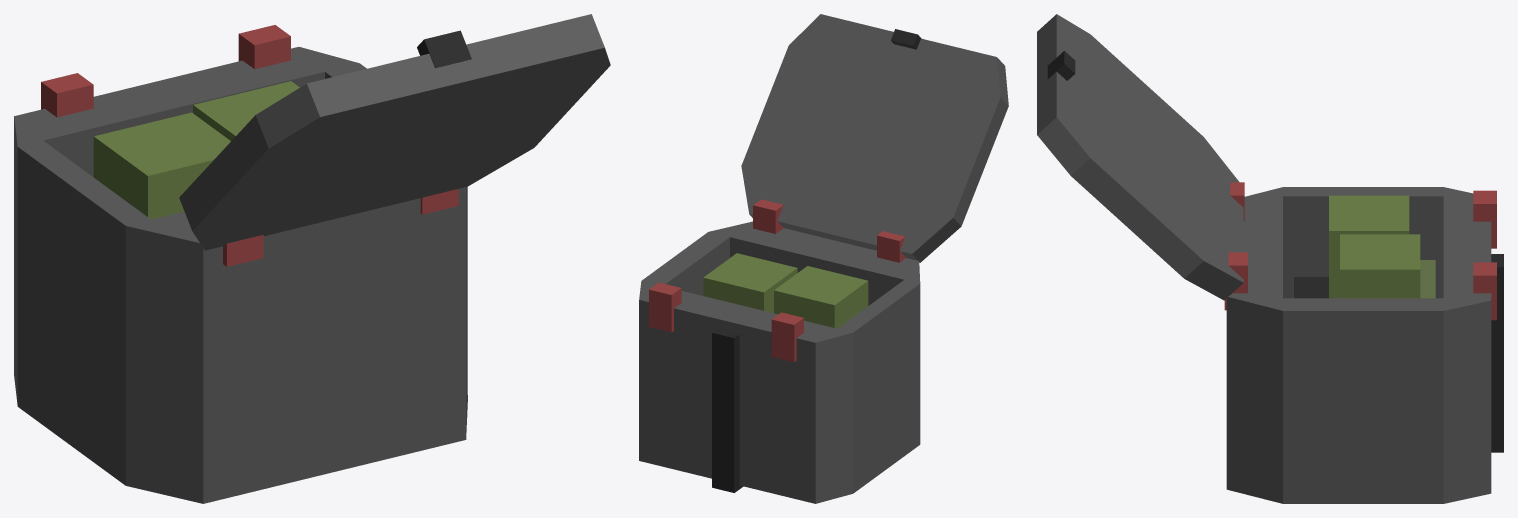
File: Crate food.fbx
3 views of the same model, side by side, from view 1: azimuth 30°, elevation 25°; view 2: azimuth 150°, elevation 25°; view 3: azimuth 270°, elevation 25° (orthographic). The views are drawn at different scales.
Visible parts, largest first — view 1: PM3D_Plane3D193_016; view 2: PM3D_Plane3D193_016; view 3: PM3D_Plane3D193_016.
Boxes of the visible parts, x1,y1,x2,y2 form: PM3D_Plane3D193_016: [14, 14, 610, 503]; PM3D_Plane3D193_016: [639, 14, 1008, 503]; PM3D_Plane3D193_016: [1037, 14, 1503, 503].
Bounding box in the file's own units: 127 × 186 × 202.
